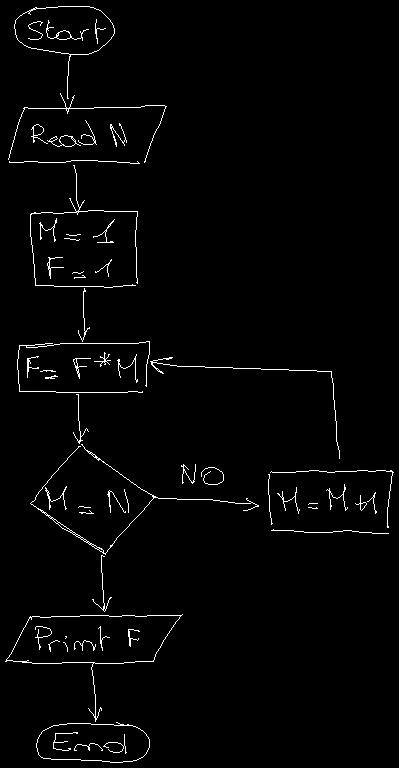arrow: (150, 357, 339, 458), (152, 496, 258, 510), (92, 555, 111, 611), (60, 55, 74, 113), (88, 663, 101, 721), (69, 165, 84, 214), (73, 394, 88, 443), (78, 288, 89, 341)
data: (8, 105, 166, 163), (5, 614, 182, 663)
decision: (30, 444, 156, 554)
process: (30, 210, 137, 287), (268, 470, 393, 533), (17, 341, 149, 392)
terminator: (14, 6, 114, 54), (36, 722, 149, 762)
text: (39, 218, 114, 278), (27, 352, 137, 382), (277, 484, 376, 513), (35, 626, 139, 651), (31, 120, 126, 146), (45, 486, 128, 513), (28, 19, 105, 43), (53, 732, 126, 753), (181, 464, 223, 484)
